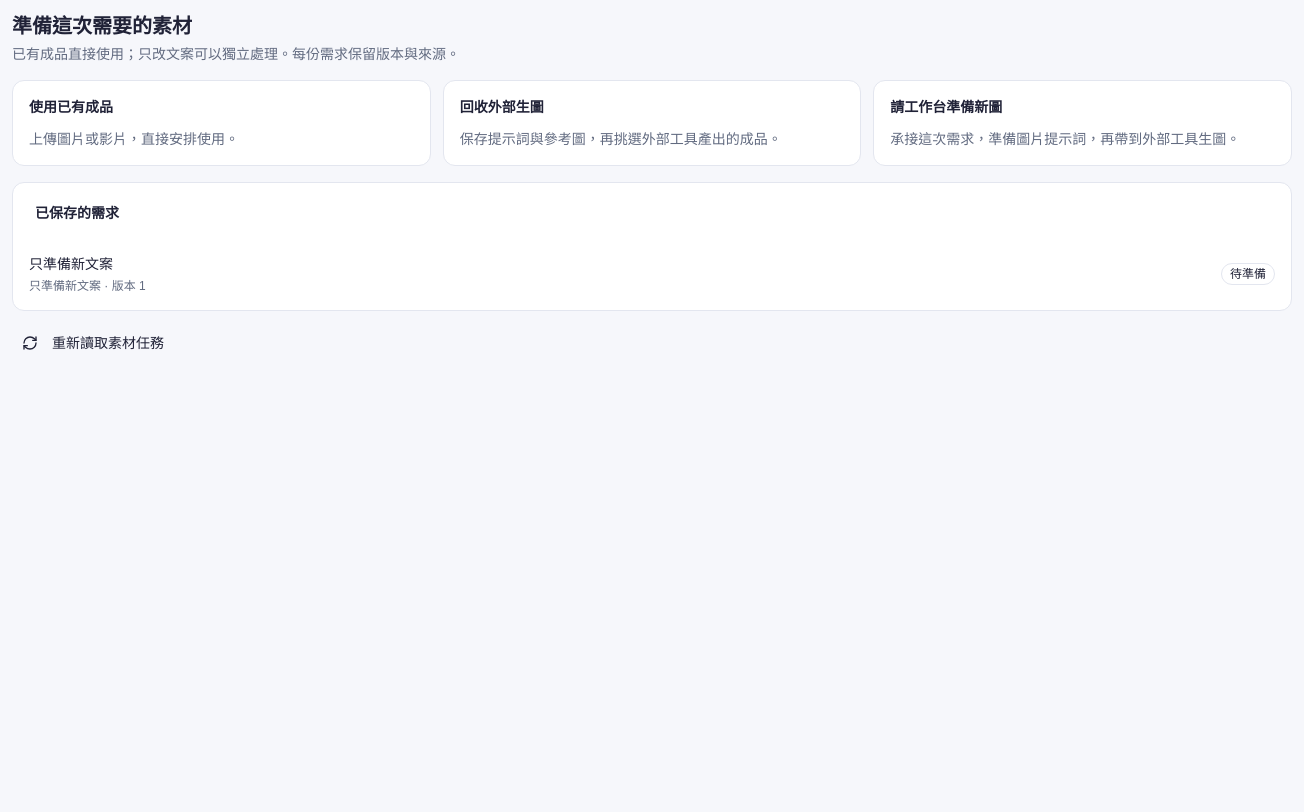
Scenario: a draft campaign offers three sources, never 只準備新文案 (F35 ruling 3); a saved copy task still shows and opens
Expected: the heading "已保存的需求" is shown, [35,203,119,224]
Click the button "只準備新文案 只準備新文案 · 版本 1 待準備".
click(71, 264)  # box [13,238,1291,310]
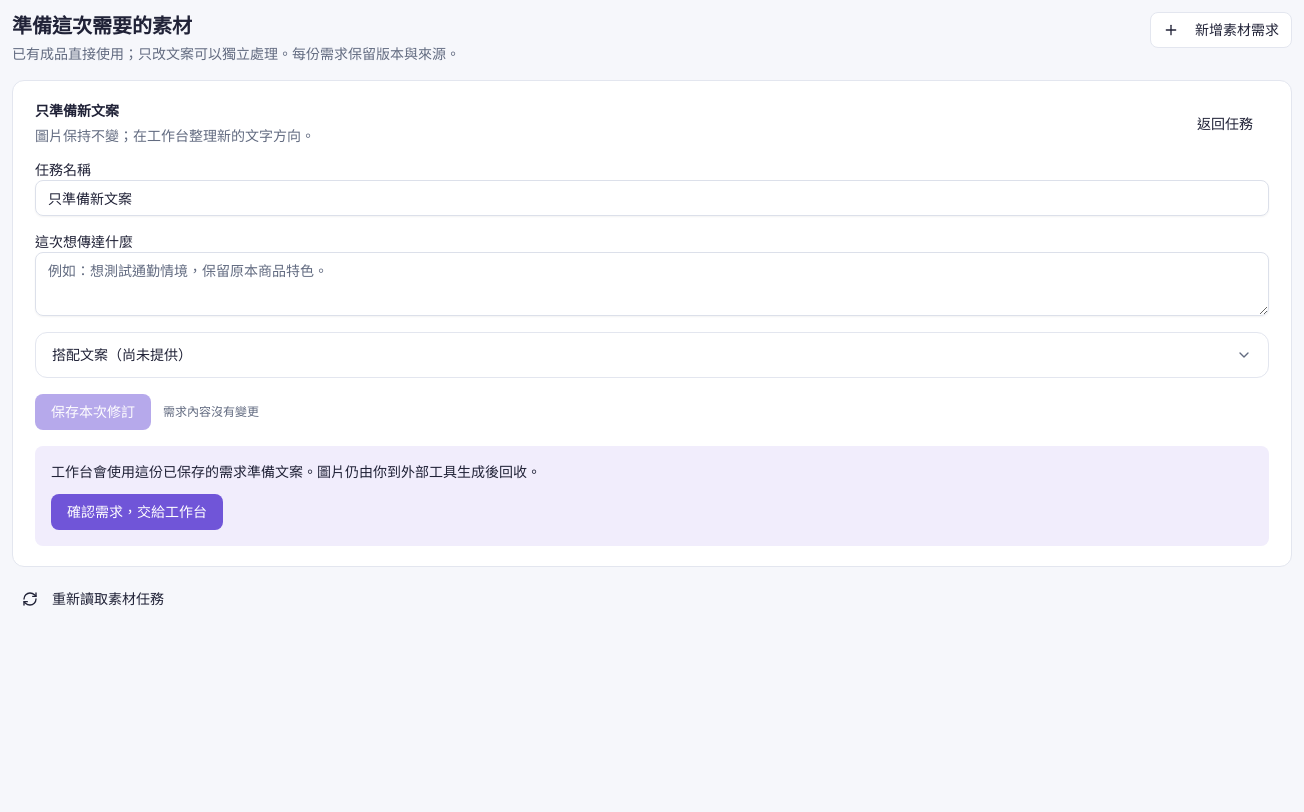
Expected: the heading "只準備新文案" is shown, [35,103,119,119]
Now the text "圖片保持不變；在工作台整理新的文字方向。" is shown, box [35,126,315,146]
